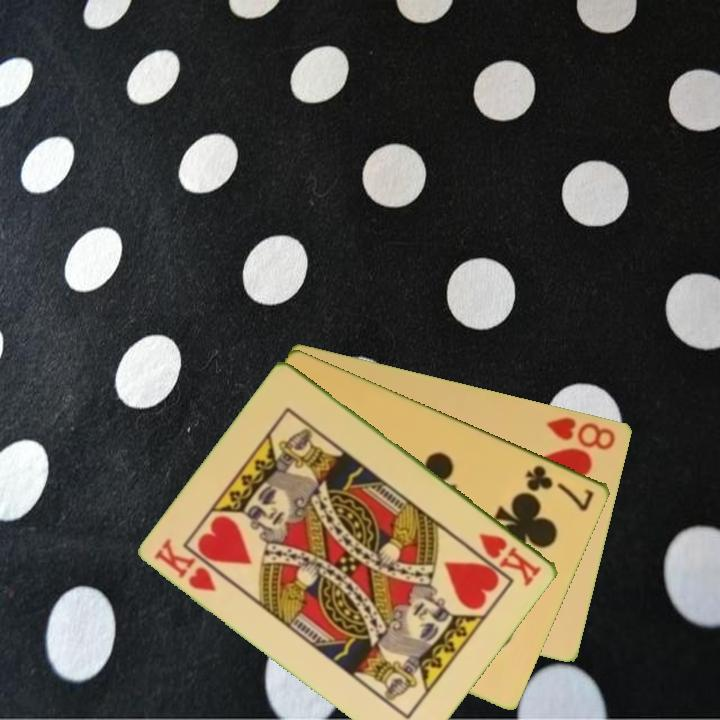7c: (522, 461, 598, 514)
8h: (543, 413, 619, 453)
Kh: (150, 534, 220, 595), (475, 529, 545, 589)
